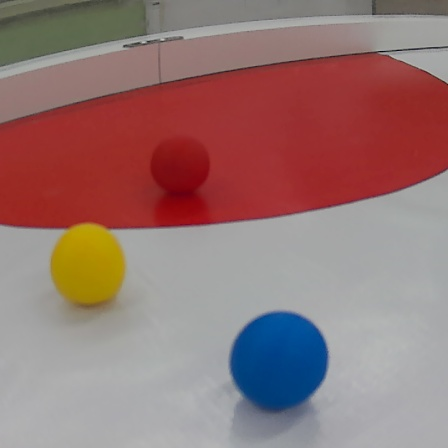blue: (228, 310, 330, 408)
red: (149, 138, 213, 191)
red_base: (3, 51, 448, 231)
yellow: (49, 222, 127, 308)
